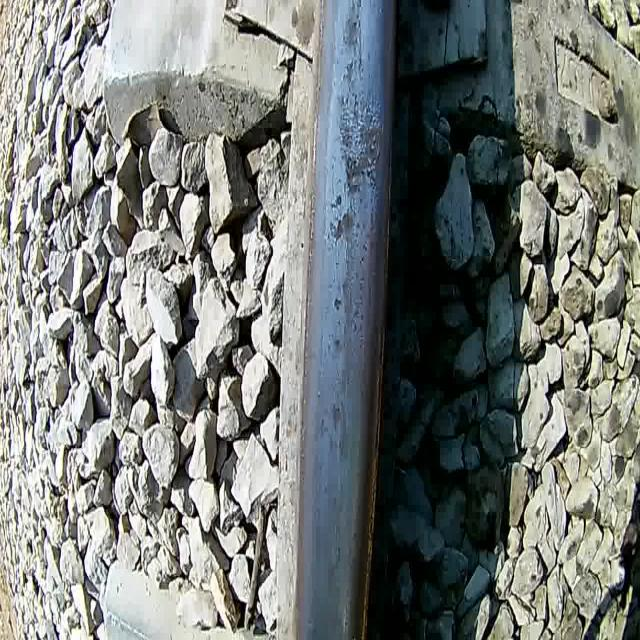Squats: (340, 116, 386, 198), (323, 190, 358, 248), (325, 394, 351, 466), (340, 0, 366, 52), (331, 277, 352, 315), (342, 52, 357, 88), (329, 329, 346, 359)
